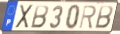0: (64, 4, 81, 31)
3: (49, 4, 64, 30)
B: (30, 4, 50, 29), (94, 5, 114, 29)
R: (78, 5, 97, 30)
X: (15, 5, 34, 30)
